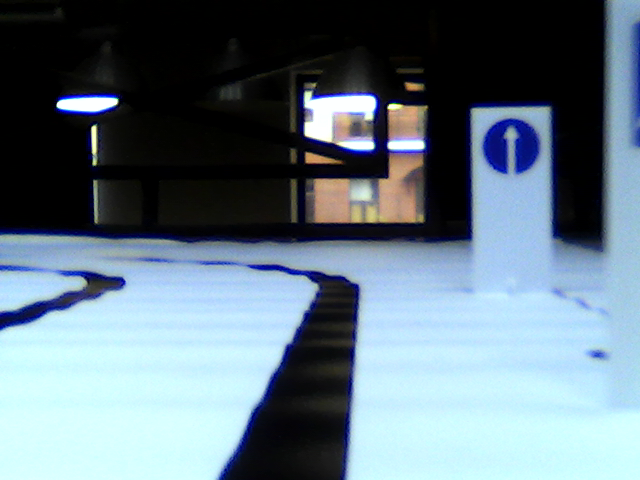forw: (483, 115, 547, 173)
